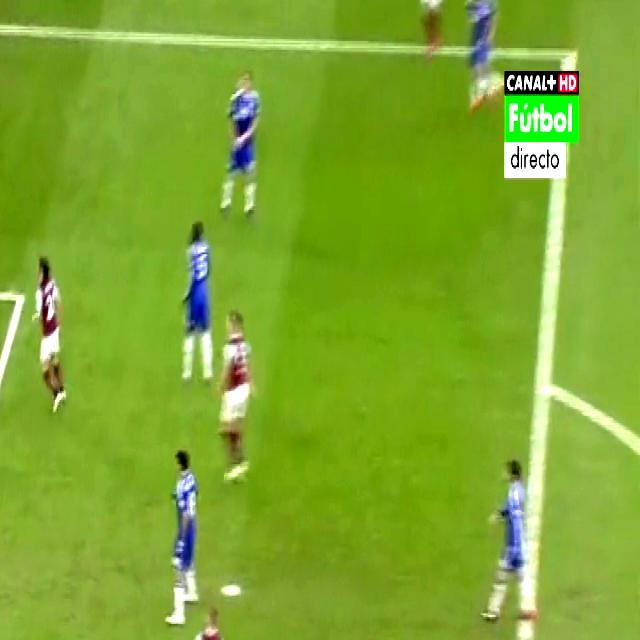soccer-player: (481, 439, 544, 626), (210, 301, 261, 496), (213, 55, 266, 230), (27, 242, 75, 423), (174, 209, 220, 395), (162, 435, 205, 624), (456, 0, 501, 117), (412, 0, 455, 64), (178, 597, 227, 640)
